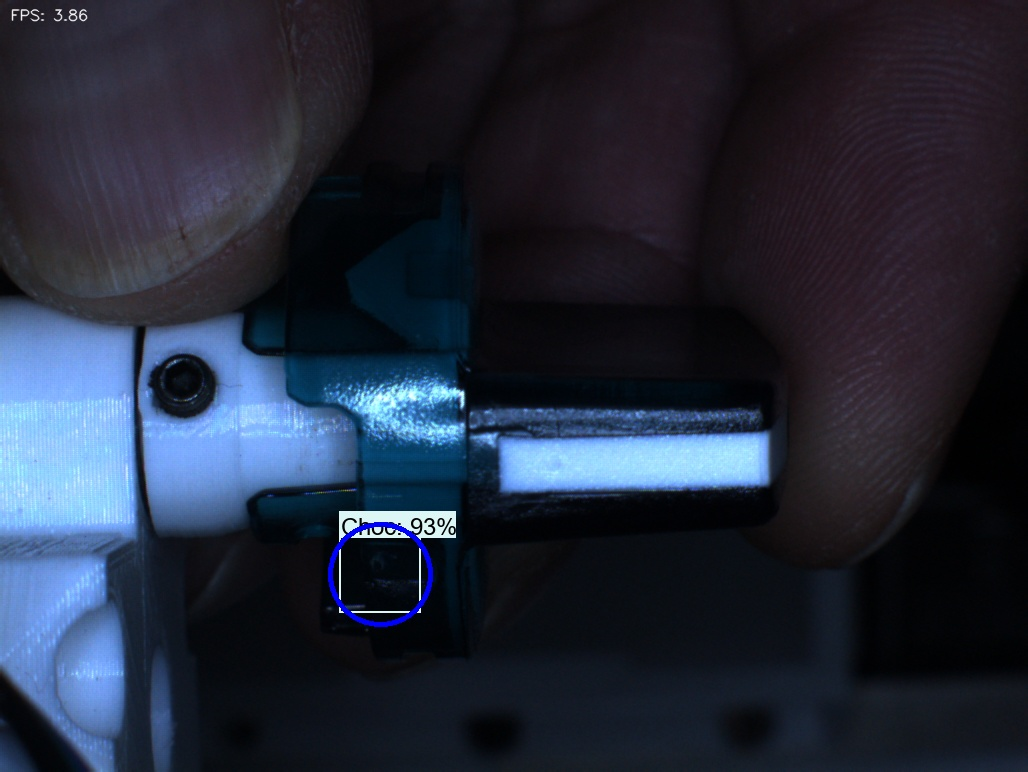DentOk: (310, 224, 388, 328)
